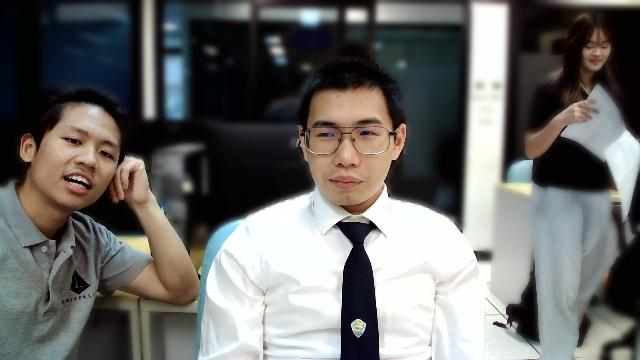fokus: (304, 60, 402, 206)
